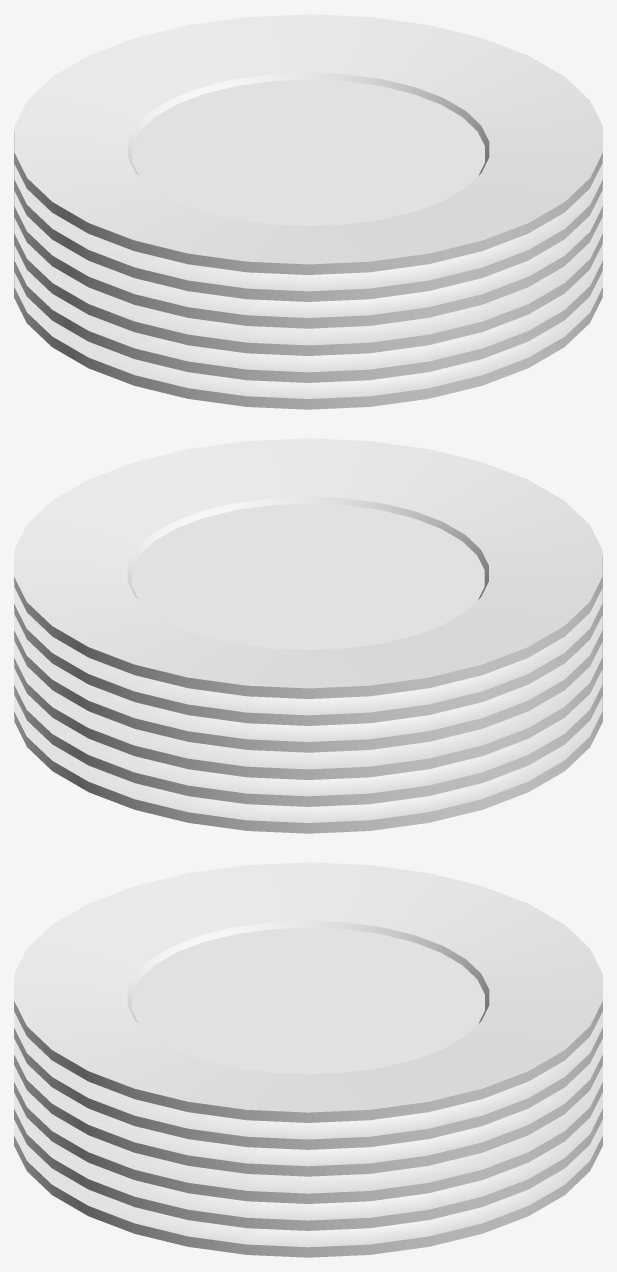
Rendered from BlateStack_clean.FBX.
3 views of the same model, one above another, from view 1: azimuth 30°, elevation 25°; view 2: azimuth 150°, elevation 25°; view 3: azimuth 270°, elevation 25° (orthographic).
Parts seen in each view (by area): view 1: PLateStack_clean; view 2: PLateStack_clean; view 3: PLateStack_clean.
Part boxes in pixels (<box>): PLateStack_clean: <box>14,14,602,409</box>; PLateStack_clean: <box>14,438,602,833</box>; PLateStack_clean: <box>14,862,602,1257</box>.
Size of the model in its own units: 26.73 by 8.47 by 26.57.
